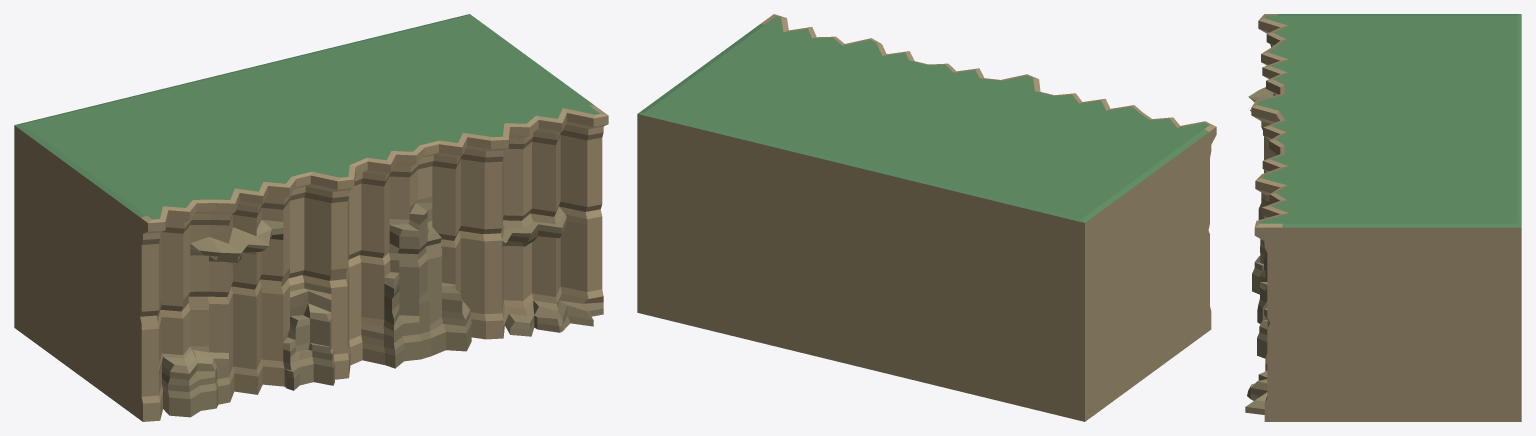
The model's file is LevelWalls1.fbx.
The picture shows the model from 3 angles, left to right: view 1: azimuth 30°, elevation 25°; view 2: azimuth 150°, elevation 25°; view 3: azimuth 270°, elevation 25°; orthographic projection. The views are drawn at different scales.
Parts seen in each view (by area): view 1: Cube; view 2: Cube; view 3: Cube.
Part boxes in pixels (<box>): Cube: <box>14,14,608,421</box>; Cube: <box>637,14,1216,421</box>; Cube: <box>1245,14,1521,421</box>.
Size of the model in its own units: 29420 by 12872 by 16081.
